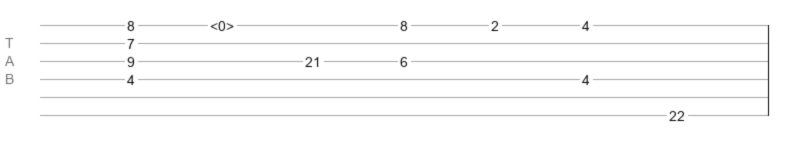2: (491, 18, 499, 28)
21: (305, 54, 321, 64)
22: (669, 108, 685, 118)
4: (127, 72, 135, 82), (582, 72, 590, 82), (582, 18, 590, 28)
6: (400, 54, 408, 64)
7: (127, 36, 135, 46)
8: (127, 18, 135, 28), (400, 18, 408, 28)
9: (127, 54, 135, 64)
harmonic: (210, 18, 234, 28)
